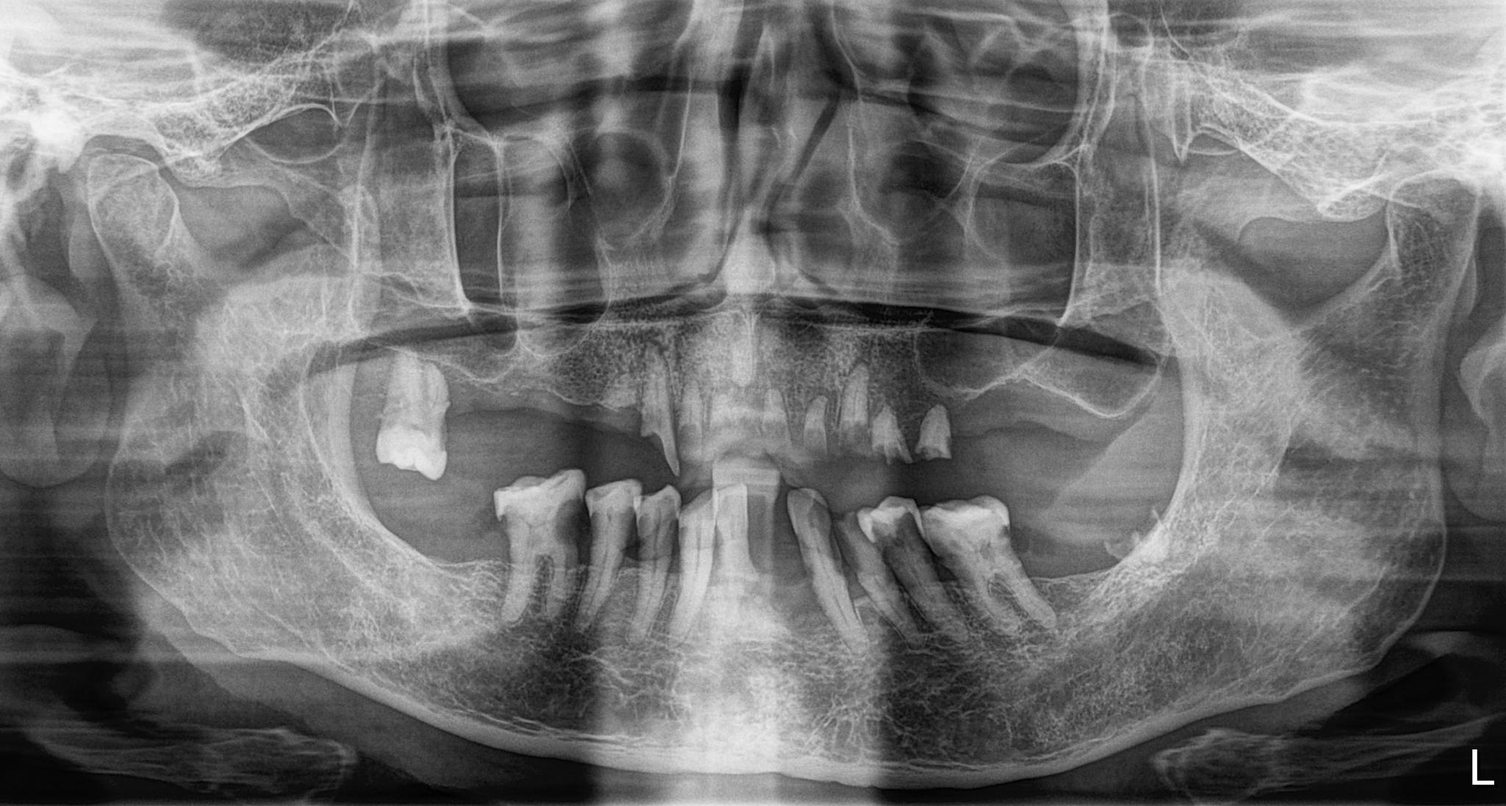Dental Caries: (811, 505, 854, 570), (888, 522, 929, 565), (548, 498, 580, 553), (656, 511, 693, 553), (621, 507, 651, 553)
Missing Tooth: (290, 355, 380, 465), (1020, 507, 1099, 621), (1101, 342, 1157, 476), (950, 362, 1007, 473), (500, 360, 567, 454), (443, 360, 495, 462), (1063, 343, 1096, 486), (1017, 345, 1054, 468), (454, 498, 498, 589), (756, 507, 792, 617), (621, 355, 658, 451), (397, 501, 438, 586), (362, 501, 401, 578), (586, 349, 615, 451)
Retained Root: (1096, 516, 1183, 565), (798, 351, 833, 464), (757, 351, 788, 476), (665, 371, 704, 470), (835, 342, 867, 452), (710, 358, 740, 470), (873, 356, 902, 455), (921, 351, 945, 462)
